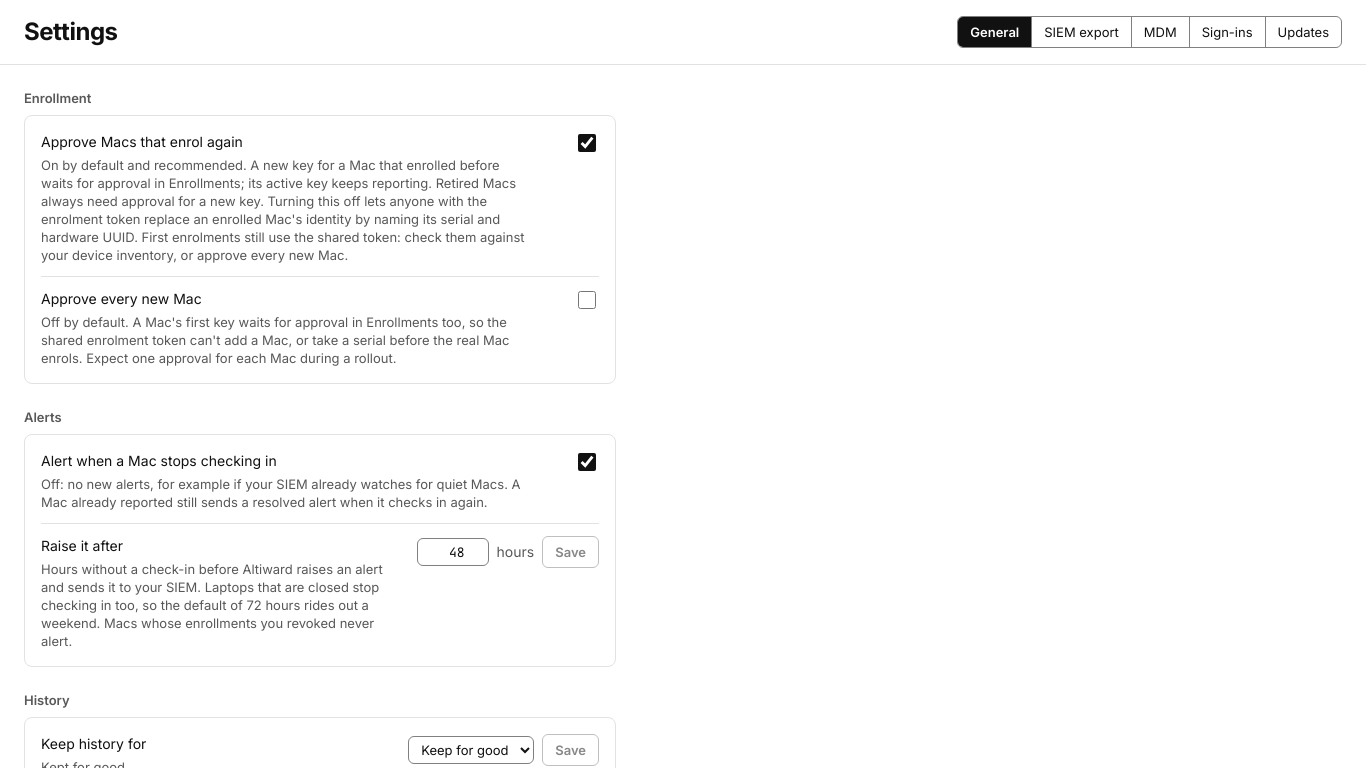
Test case: Settings › keep history for › asks when going from kept for good to the default with a SIEM connected
The width and height of the screenshot is (1366, 768).
Select "Default" in the dropdown labelled "Keep history for" at (471, 750), box [408,736,534,764]
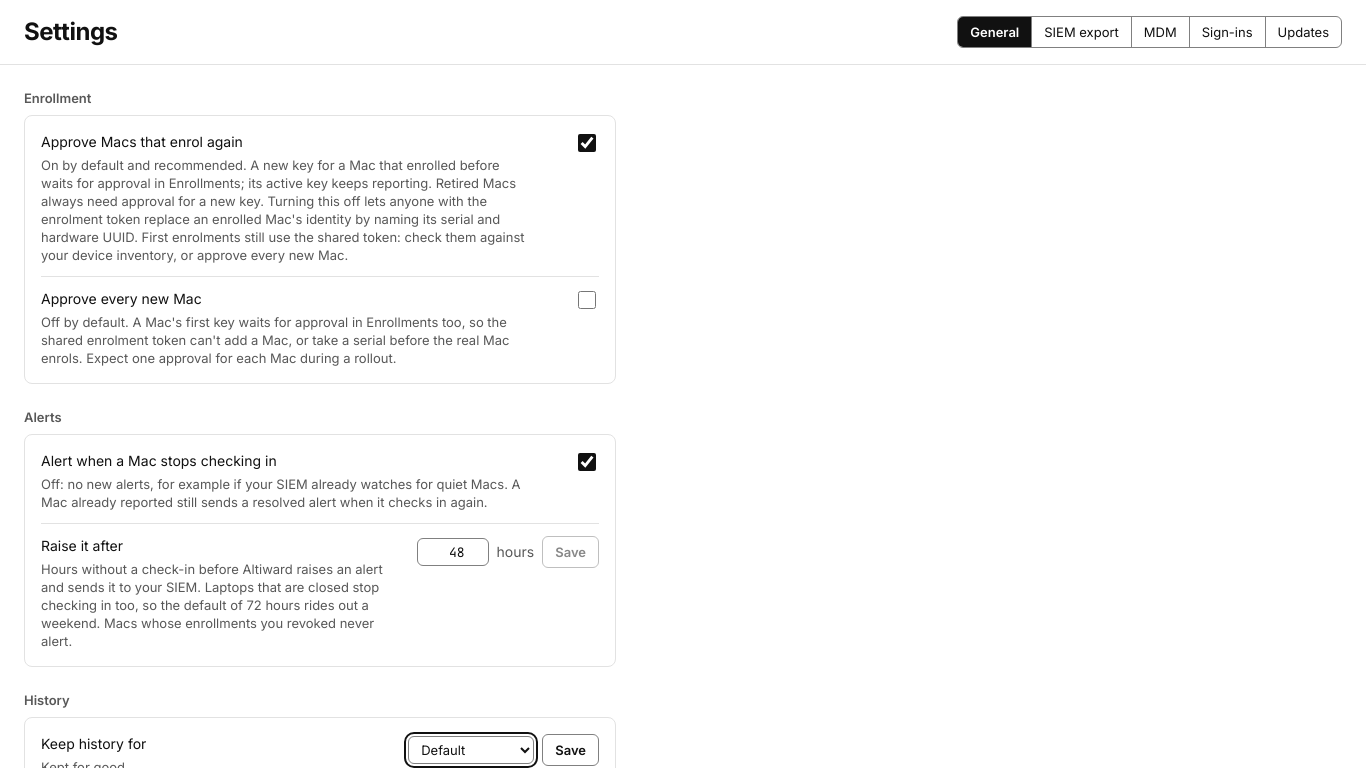
Click the button with aria-label "Save history period" at (571, 750), box [542,734,599,766]
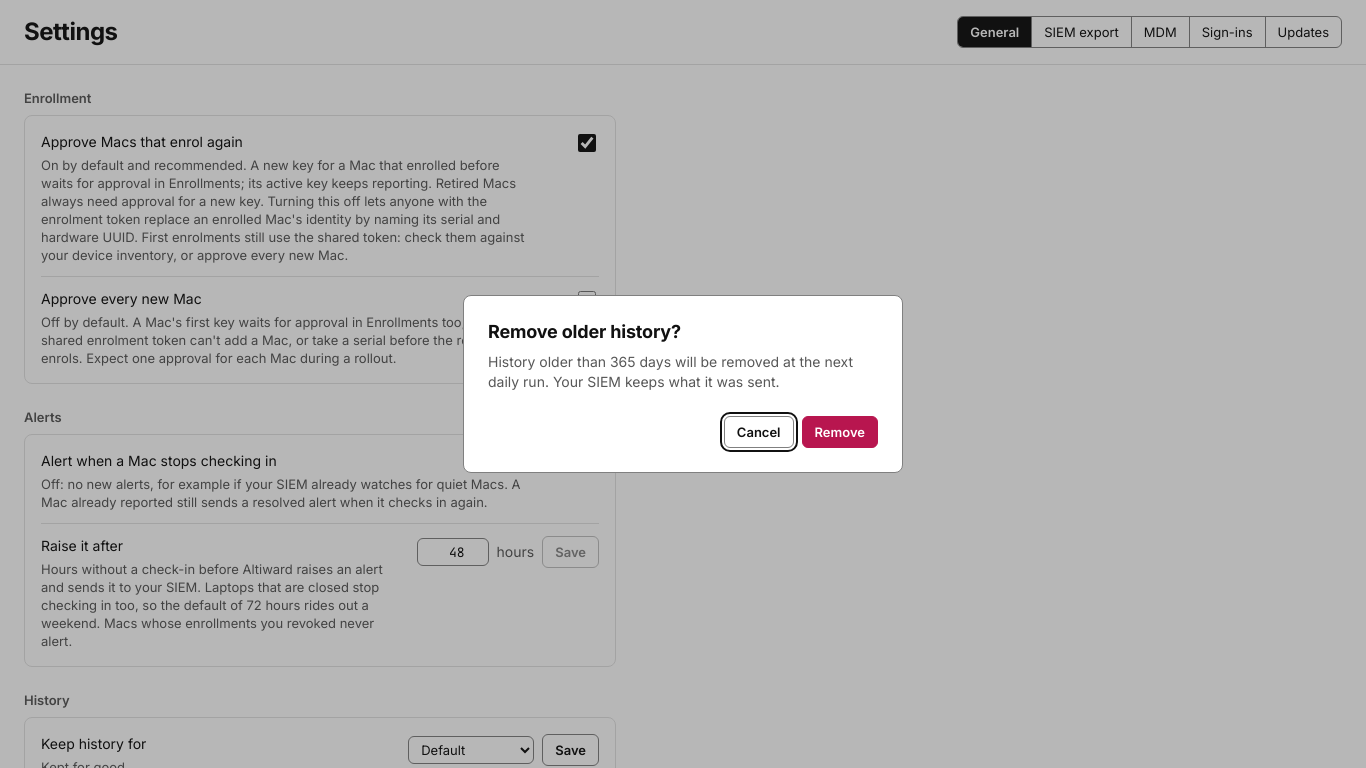
Now the dialog shows "History older than 365 days will be removed", box [488,353,853,390]
